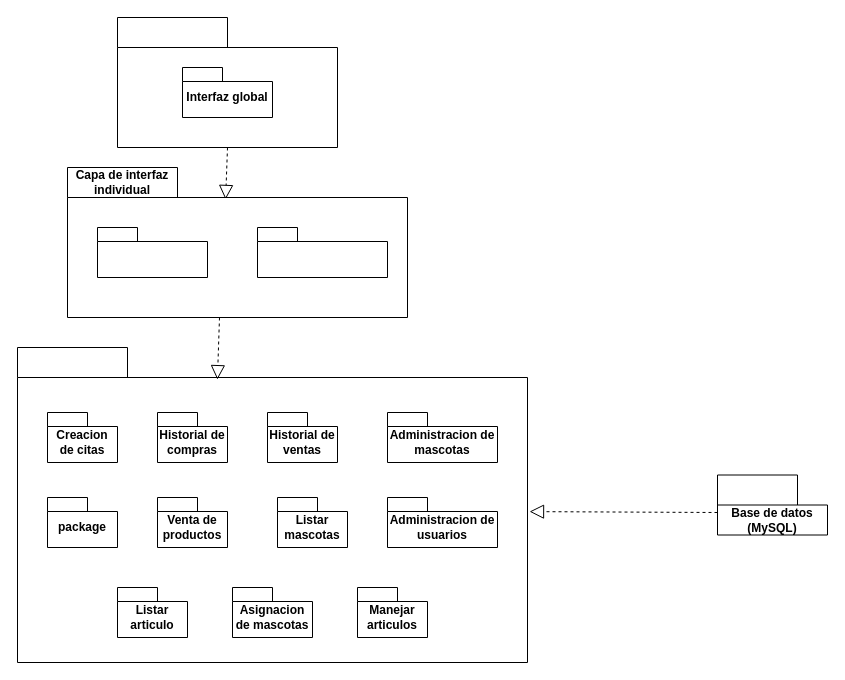
The diagram is 845 pixels wide and 680 high, and some of its shapes have lost their labels. Each missing label, with the box of its shape:
Capa de Logica del Negocio: (16, 346, 528, 662)
Capa de presentacion: (116, 16, 338, 148)
Interfaz Admin: (256, 226, 388, 278)
Interfaz Cliente: (96, 226, 208, 278)
